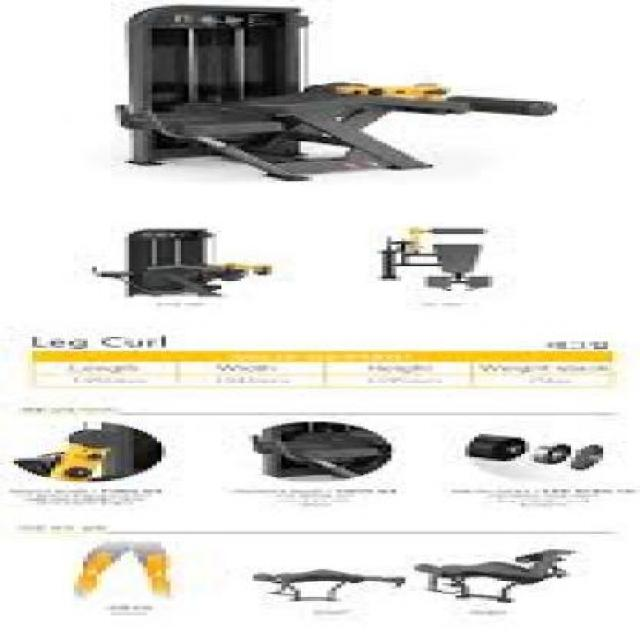reg curl machine: (72, 5, 563, 186)
